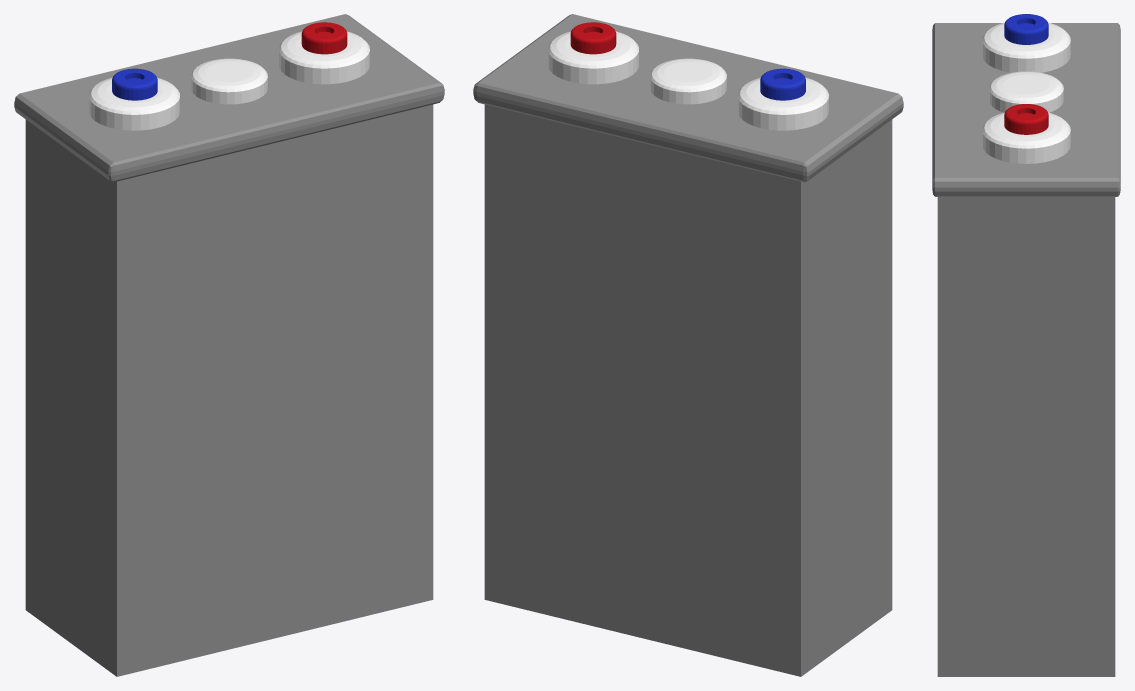
File: battery.glb
3 views of the same model, side by side, from view 1: azimuth 30°, elevation 25°; view 2: azimuth 150°, elevation 25°; view 3: azimuth 270°, elevation 25° (orthographic). The views are drawn at different scales.
Parts seen in each view (by area): view 1: dianci, lingxian_tuo, huoxian_tuo, dixian, huoxian, lingxian; view 2: dianci, lingxian_tuo, huoxian_tuo, dixian, huoxian, lingxian; view 3: dianci, huoxian_tuo, lingxian_tuo, dixian, lingxian, huoxian.
Part boxes in pixels (x1,y1,x2,y2): dianci: (14,14,444,676); lingxian_tuo: (89,77,179,130); huoxian_tuo: (279,31,369,84); dixian: (191,58,267,104); huoxian: (301,22,347,54); lingxian: (112,68,157,100); dianci: (473,14,903,676); lingxian_tuo: (738,77,828,130); huoxian_tuo: (548,31,638,84); dixian: (650,58,726,104); huoxian: (570,22,616,54); lingxian: (760,68,805,100); dianci: (932,23,1120,676); huoxian_tuo: (982,112,1070,163); lingxian_tuo: (982,22,1070,72); dixian: (989,71,1063,112); lingxian: (1004,14,1048,44); huoxian: (1004,104,1048,134).
Size of the model in its own units: 0.3401 by 0.5322 by 0.17.
